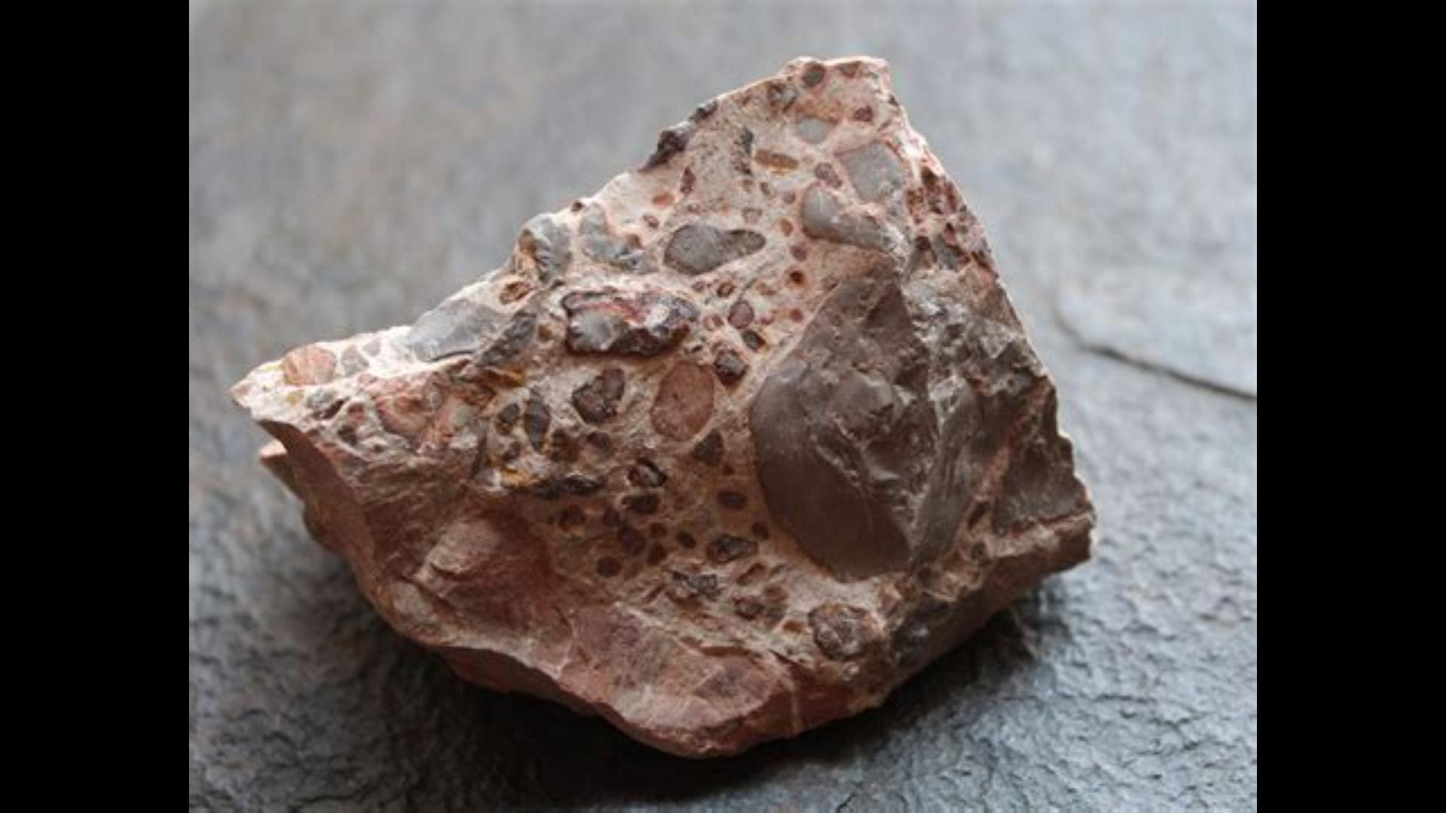rock: (232, 59, 1088, 752)
